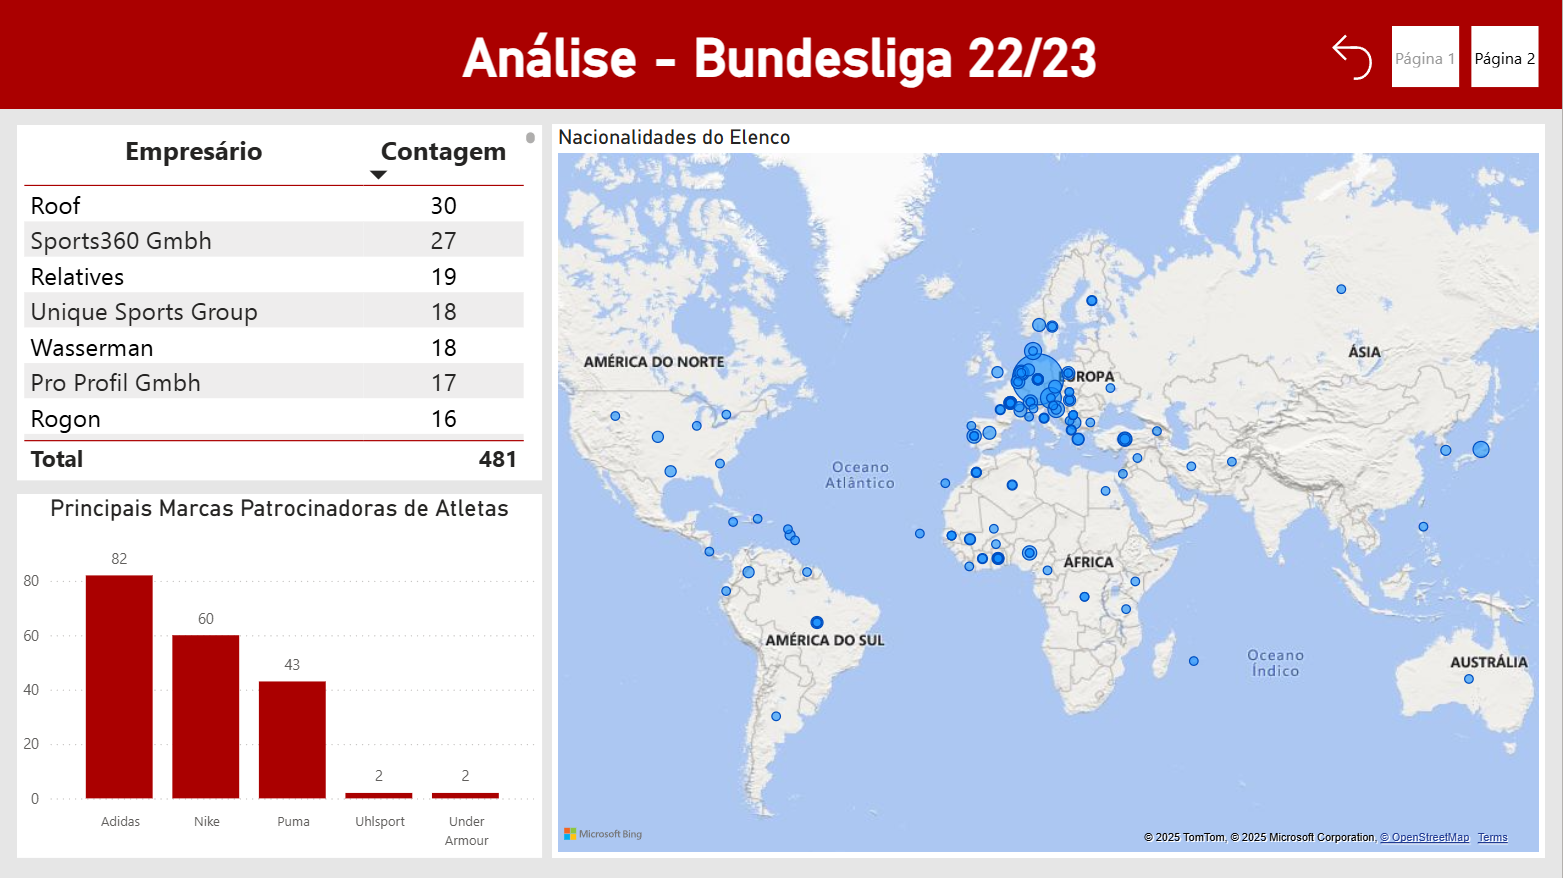

The page's visual inventory and layout, read from the dashboard file:
{"tool":"powerbi","page":{"name":"Página 2","canvas":[1280,720],"ordinal":1},"visuals":[{"type":"textbox","box":[0,16.9,1280,60.4],"z":0},{"type":"shape","box":[0,89.4,1280,630.3],"z":1000},{"type":"clusteredColumnChart","title":"Principais Marcas Patrocinadoras de Atletas","fields":{"Category":["bundesliga_player 2.Marca Patrocinadora"],"Y":["CountNonNull(bundesliga_player 2.Marca Patrocinadora)"]},"box":[14.5,404.5,429.9,298.3],"z":3000},{"type":"tableEx","fields":{"Values":["bundesliga_player 2.Agenciador","CountNonNull(bundesliga_player 2.Agenciador)"]},"box":[14.5,102.6,429.9,291],"z":4000},{"type":"map","title":"Nacionalidades do Elenco","fields":{"Category":["bundesliga_player 2.Nacionalidade"],"Size":["CountNonNull(bundesliga_player 2.Nacionalidade)"]},"box":[452.8,101.4,812.7,601.4],"z":5000},{"type":"pageNavigator","box":[1141.2,21.4,120.4,50],"z":6000},{"type":"actionButton","box":[1083.2,21.7,49.5,49.5],"z":7001}]}

Visuals, with their boxes in screenshot pixels (x1, y1, x2, y2), scaled from the page's 1280x720 canvas onto the 1563x878 screenshot:
textbox: x1=0 y1=21 x2=1562 y2=94
shape: x1=0 y1=109 x2=1562 y2=877
"Principais Marcas Patrocinadoras de Atletas" clusteredColumnChart: x1=18 y1=493 x2=543 y2=857
tableEx - bundesliga_player 2.Agenciador x CountNonNull(bundesliga_player 2.Agenciador): x1=18 y1=125 x2=543 y2=480
"Nacionalidades do Elenco" map: x1=553 y1=124 x2=1545 y2=857
pageNavigator: x1=1394 y1=26 x2=1541 y2=87
actionButton: x1=1323 y1=26 x2=1383 y2=87
